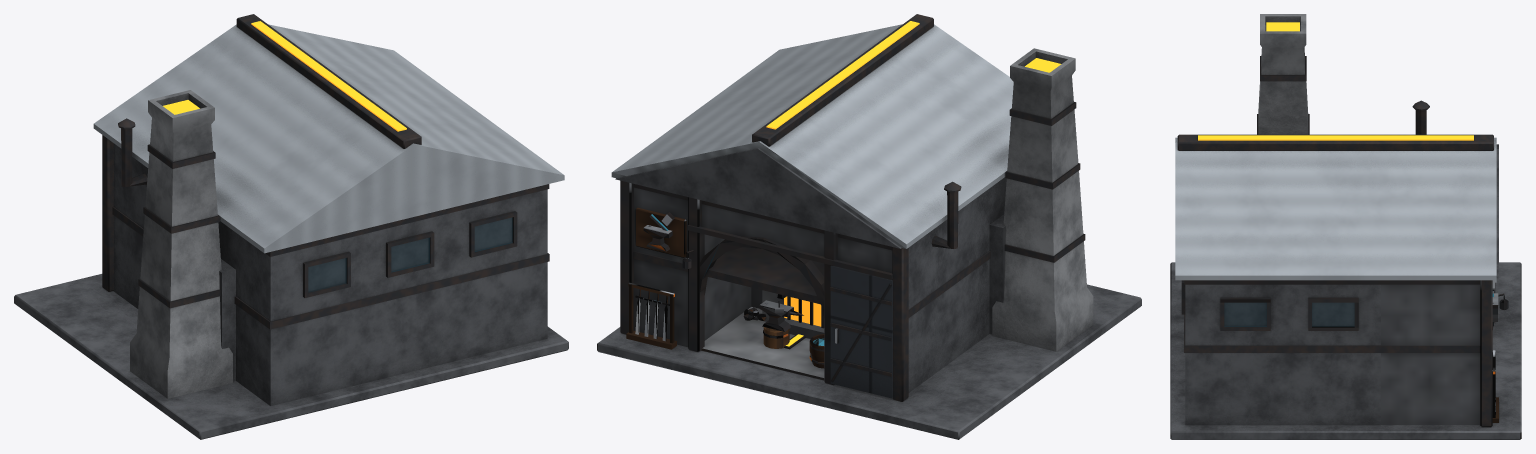
The model's file is forja_principal.fbx.
3 views of the same model, side by side, from view 1: azimuth 30°, elevation 25°; view 2: azimuth 150°, elevation 25°; view 3: azimuth 270°, elevation 25° (orthographic). The views are drawn at different scales.
Visible parts, largest first — view 1: forja_principal, forja_principal_cristal, forja_principal_naranja_neon; view 2: forja_principal, forja_principal_porton, forja_principal_naranja_neon; view 3: forja_principal, forja_principal_cristal, forja_principal_naranja_neon.
Part boxes in pixels (x1,y1,x2,y2): forja_principal: (14,14,568,439); forja_principal_cristal: (308,217,512,292); forja_principal_naranja_neon: (163,21,406,131); forja_principal: (597,14,1141,439); forja_principal_porton: (830,265,892,398); forja_principal_naranja_neon: (752,21,1061,346); forja_principal: (1170,14,1521,439); forja_principal_cristal: (1224,303,1354,326); forja_principal_naranja_neon: (1198,22,1473,140).
Size of the model in its own units: 16 by 11.7 by 14.
4 materials, 4 textured.
